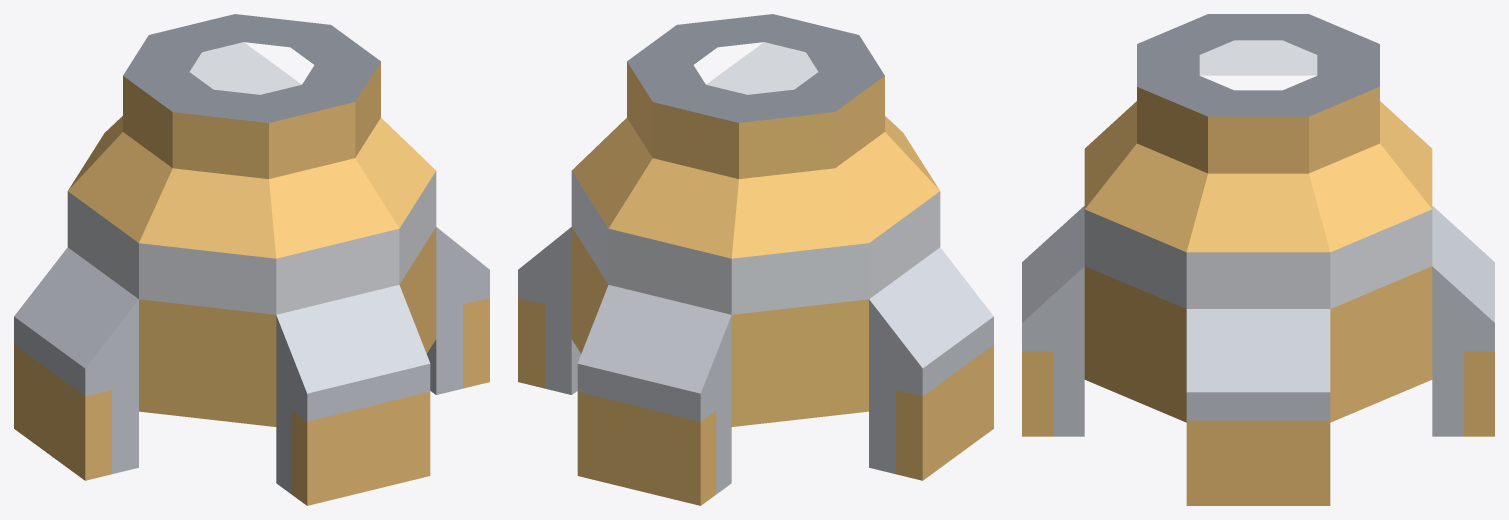
The model's file is machine_barrelLarge.glb.
The picture shows the model from 3 angles, left to right: view 1: azimuth 30°, elevation 25°; view 2: azimuth 150°, elevation 25°; view 3: azimuth 270°, elevation 25°; orthographic projection.
Visible parts, largest first — view 1: machine_barrelLarge; view 2: machine_barrelLarge; view 3: machine_barrelLarge.
Part boxes in pixels (x1,y1,x2,y2): machine_barrelLarge: (14,14,489,505); machine_barrelLarge: (518,14,993,505); machine_barrelLarge: (1022,14,1494,505).
Bounding box in the file's own units: 0.7543 × 0.6 × 0.7543.
